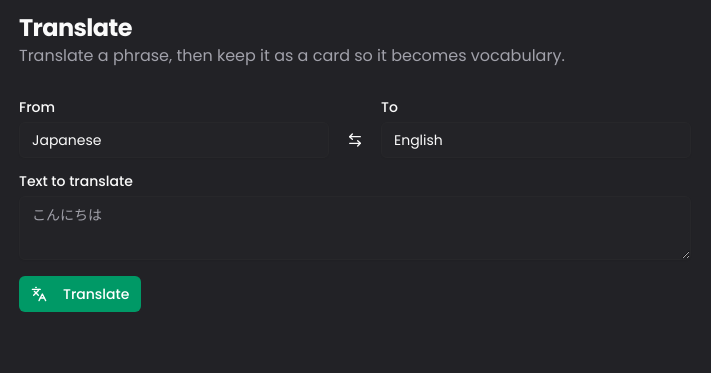
Test case: TranslatePage › surfaces a friendly message when no translation exists
Type "flibbertigibbet" into the text box labelled "Text to translate".
click(355, 228); type("flibbertigibbet")  # box [19,196,691,260]
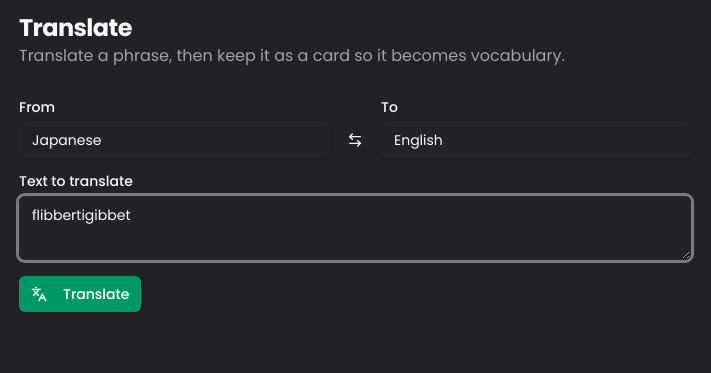
Click the button "Translate".
click(80, 294)  # box [19,276,141,312]
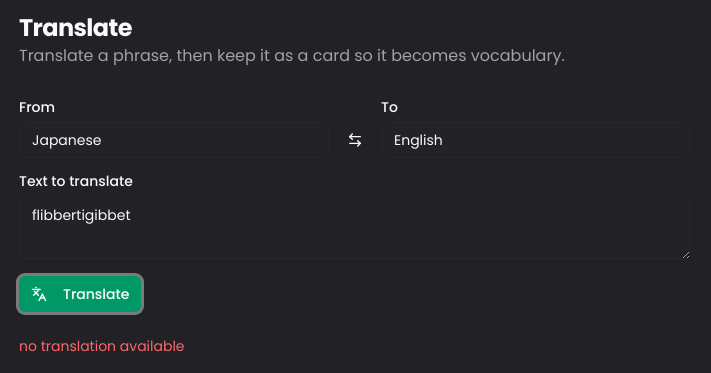
Now the text "no translation available" is shown, box [19,336,184,356]
